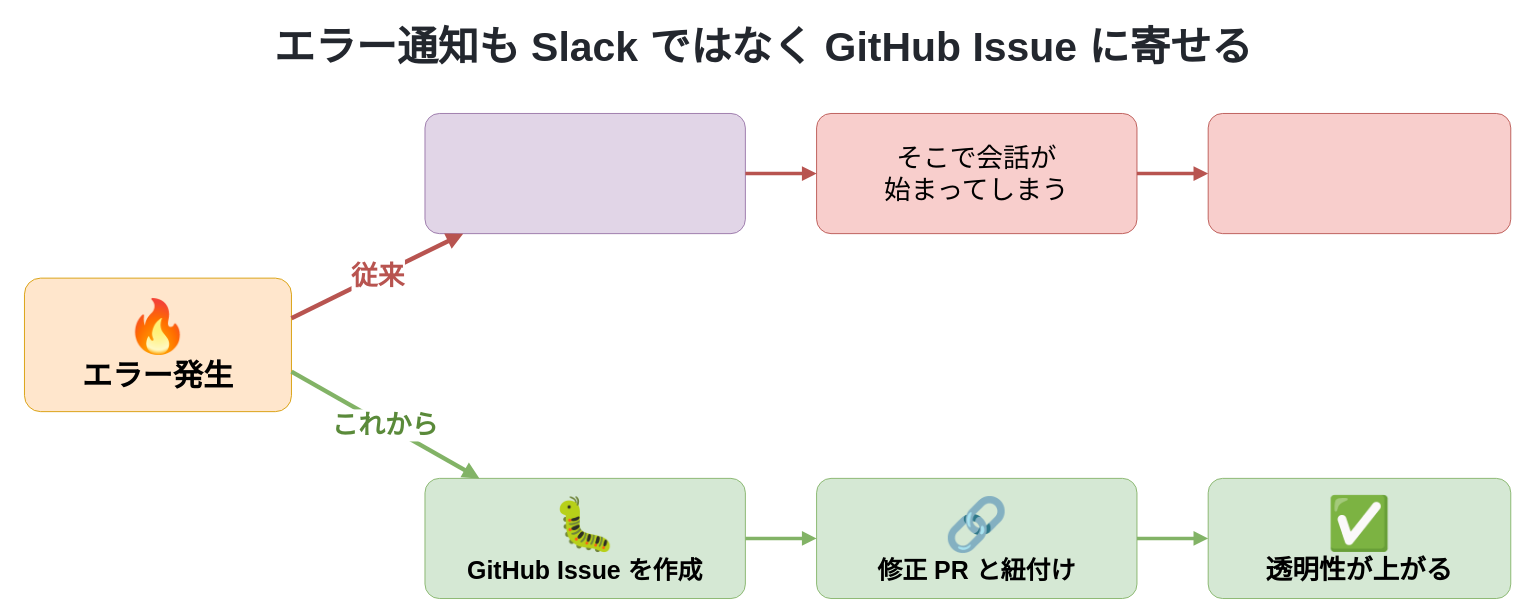
Some shapes in this 1526 by 614 pixel diagram are drawn without their labels. Here are the shapes that lost their labels. From the top down, the centre of each, then its label:
(584,173): 💬 Slack に通知
(1359,173): ❌ ストック化を忘れる
